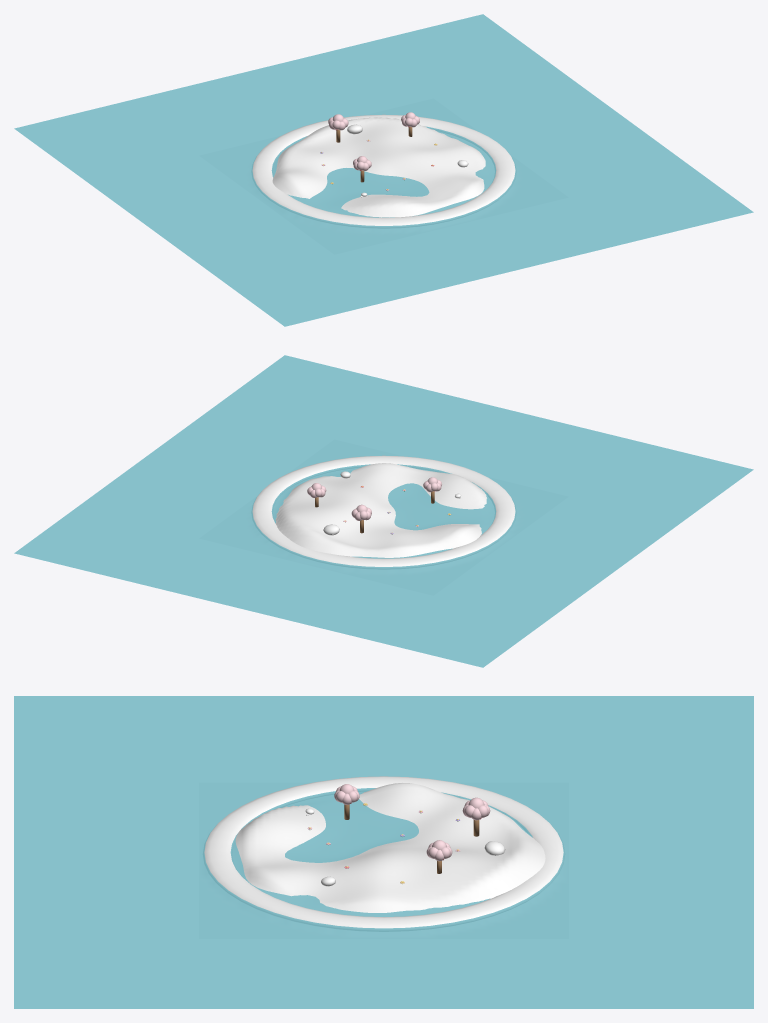
File: animal_crossing_world.glb
3 renders of one model, top to bottom at view 1: azimuth 30°, elevation 25°; view 2: azimuth 150°, elevation 25°; view 3: azimuth 270°, elevation 25°, orthographic. The views are drawn at different scales.
Parts seen in each view (by area): view 1: Ocean, Island, Beach; view 2: Ocean, Island, Beach; view 3: Ocean, Island, Beach.
Boxes of the visible parts, x1,y1,x2,y2 form: Ocean: (14, 14, 753, 326); Island: (212, 101, 566, 253); Beach: (252, 114, 515, 227); Ocean: (14, 355, 753, 667); Island: (201, 442, 565, 589); Beach: (252, 455, 515, 568); Ocean: (14, 696, 753, 1008); Island: (200, 783, 568, 938); Beach: (204, 776, 564, 930).
Bounding box in the file's own units: 40 × 3.26 × 40.
